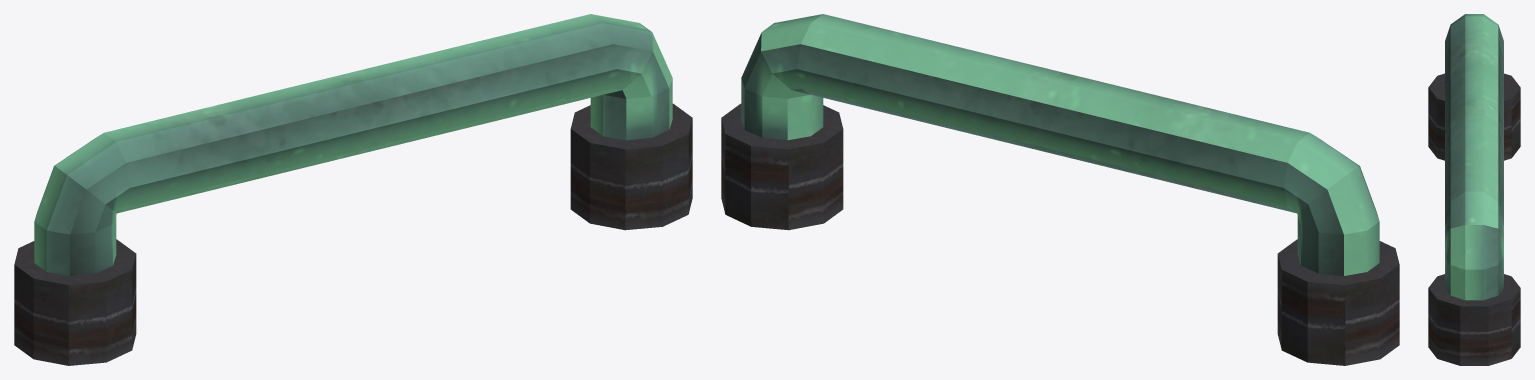
Rendered from MESH_EXTERNAL_PIPE_REFRIGERATOR.fbx.
3 renders of one model, left to right at view 1: azimuth 30°, elevation 25°; view 2: azimuth 150°, elevation 25°; view 3: azimuth 270°, elevation 25°, orthographic. The views are drawn at different scales.
Visible parts, largest first — view 1: MESH_EXTERNAL_PIPE_REFRIGERATOR; view 2: MESH_EXTERNAL_PIPE_REFRIGERATOR; view 3: MESH_EXTERNAL_PIPE_REFRIGERATOR.
Part boxes in pixels (<box>): MESH_EXTERNAL_PIPE_REFRIGERATOR: <box>14,14,692,365</box>; MESH_EXTERNAL_PIPE_REFRIGERATOR: <box>721,14,1399,365</box>; MESH_EXTERNAL_PIPE_REFRIGERATOR: <box>1428,14,1520,365</box>.
Bounding box in the file's own units: 9.48 × 2.67 × 1.55.
